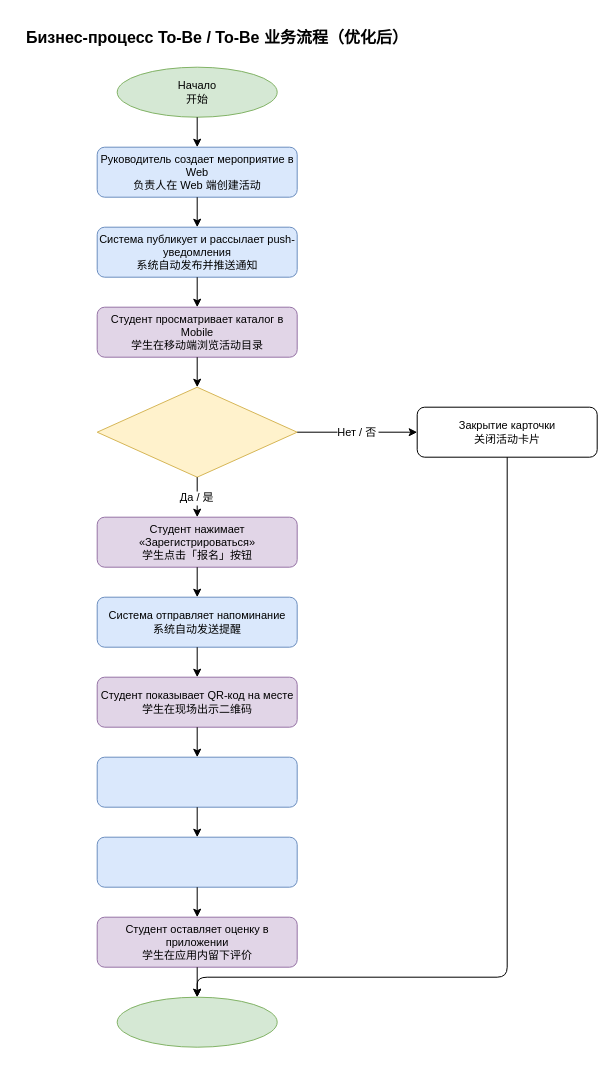
This 615x1065 diagram has some shape labels left out. The shapes that lost their labels are listed below. From the top down, each one's box as (x1, y1, x2, y2) in pixels, then its label:
(96, 386, 297, 477): Студент заинтересован? 学生感兴趣吗？
(96, 756, 297, 807): Организатор сканирует QR-код 组织者扫描二维码完成签到
(96, 836, 297, 887): Система генерирует отчет и статистику 系统自动生成报告与统计
(116, 996, 277, 1047): Конец 结束
